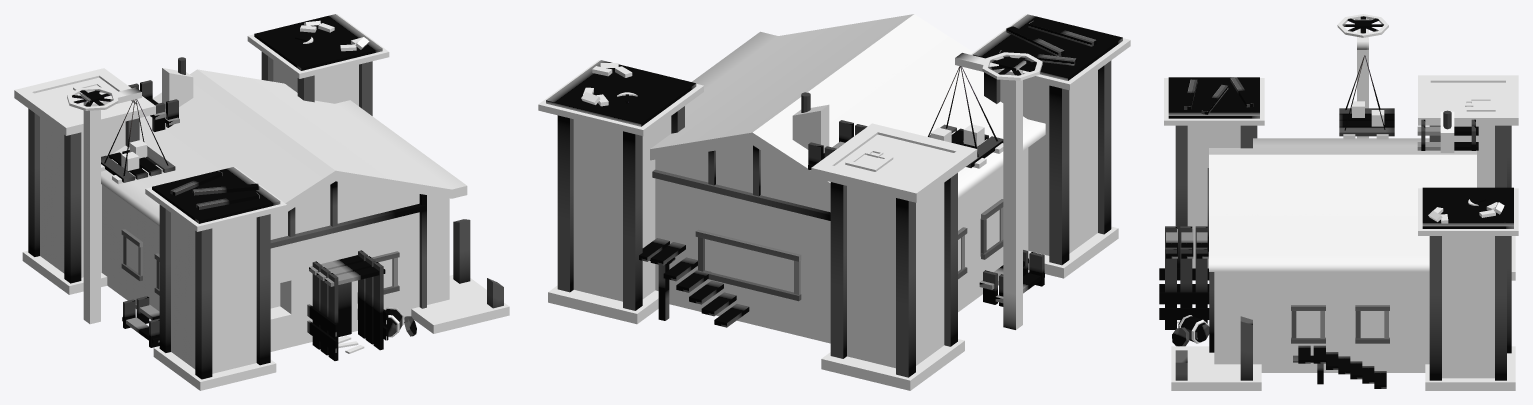
The model's file is BarracksPhase02.fbx.
3 views of the same model, side by side, from view 1: azimuth 30°, elevation 25°; view 2: azimuth 150°, elevation 25°; view 3: azimuth 270°, elevation 25° (orthographic). The views are drawn at different scales.
Parts seen in each view (by area): view 1: BarracksPhase02; view 2: BarracksPhase02; view 3: BarracksPhase02.
Boxes of the visible parts, x1,y1,x2,y2 form: BarracksPhase02: (14,14,509,390); BarracksPhase02: (538,14,1130,390); BarracksPhase02: (1159,14,1518,390).
Size of the model in its own units: 6.13 by 3.81 by 5.66.
